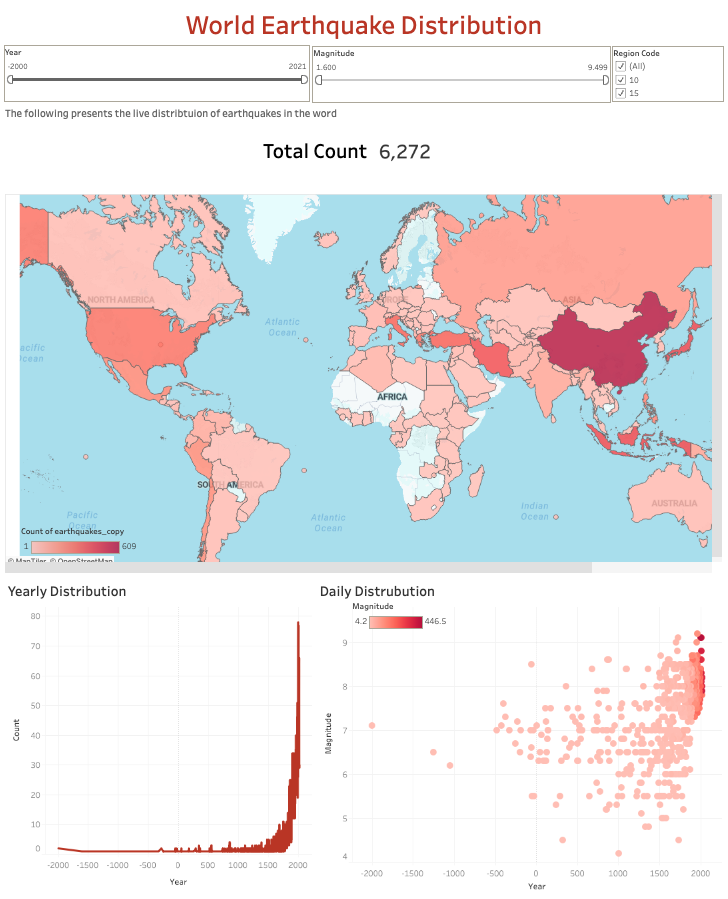

The dashboard page shown, as its layout file describes it:
{"tool":"tableau","page":{"name":"Earthquake Distribution Board","canvas":[1100,2600],"ordinal":0},"visuals":[{"type":"text","box":[8,8,1084,59]},{"type":"text","box":[8,67,1084,206]},{"type":"filter","title":"Year Distribution","param":"[federated.0c6wrz51qgix4k1acehe3132cxyj].[none:year:qk]","box":[10,69,459,86]},{"type":"filter","title":"Daily Distrubution","param":"[federated.0c6wrz51qgix4k1acehe3132cxyj].[none:eq_primary:qk]","box":[473,70,448,86]},{"type":"filter","title":"Regions","param":"[federated.0c6wrz51qgix4k1acehe3132cxyj].[none:region_code:ok]","box":[923,70,168,85]},{"type":"worksheet","title":"Count","mark":"Automatic","box":[555,187,366,76]},{"type":"text","box":[399,207,164,40]},{"type":"worksheet","title":"County Polygon","mark":"Multipolygon","box":[8,273,1084,591]},{"type":"legend","title":"County Polygon","param":"[federated.0c6wrz51qgix4k1acehe3132cxyj].[__tableau_internal_object_id__].[cnt:e","box":[19.6,741,178.4,44]},{"type":"worksheet","title":"Year Distribution","mark":"Automatic","rows":["earthquakes_copy_B94B2CE4F14A46B1A65C4960332EB406"],"cols":["year"],"box":[8,864,468,476]},{"type":"worksheet","title":"Daily Distrubution","mark":"Circle","rows":["eq_primary"],"cols":["year"],"box":[476,864,616,476]},{"type":"legend","title":"Daily Distrubution","param":"[federated.0c6wrz51qgix4k1acehe3132cxyj].[sum:eq_primary:qk]","box":[521.7,1196,146.1,58]},{"type":"currpage","title":"Countries","box":[946,1300,118,97]},{"type":"worksheet","title":"Regions","mark":"Automatic","rows":["region_code"],"cols":["earthquakes_copy_B94B2CE4F14A46B1A65C4960332EB406"],"box":[8,1340,507,530]},{"type":"worksheet","title":"Countries","mark":"Pie","box":[515,1340,577,530]},{"type":"worksheet","title":"Magnitude - Focal Depth","mark":"Automatic","rows":["focal_depth"],"cols":["eq_primary"],"box":[8,1870,1084,344]},{"type":"legend","title":"Magnitude - Focal Depth","param":"[federated.0c6wrz51qgix4k1acehe3132cxyj].[none:flag_tsunami:nk]","box":[74,1872,140,58]},{"type":"worksheet","title":"Location Map","mark":"Automatic","rows":["latitude"],"cols":["longitude"],"box":[8,2214.1,1084,377.9]}]}

Visuals, with their boxes on the page's 1100x2600 design canvas (x1, y1, x2, y2). These are canvas units, not pixel positions in the 728x899 screenshot, which may show the page scaled, cropped or inside an application window:
text: [8,8,1092,67]
text: [8,67,1092,273]
"Year Distribution" filter: [10,69,469,155]
"Daily Distrubution" filter: [473,70,921,156]
"Regions" filter: [923,70,1091,155]
"Count" worksheet: [555,187,921,263]
text: [399,207,563,247]
"County Polygon" worksheet (Multipolygon marks): [8,273,1092,864]
"County Polygon" legend: [20,741,198,785]
"Year Distribution" worksheet: [8,864,476,1340]
"Daily Distrubution" worksheet (Circle marks): [476,864,1092,1340]
"Daily Distrubution" legend: [522,1196,668,1254]
"Countries" currpage: [946,1300,1064,1397]
"Regions" worksheet: [8,1340,515,1870]
"Countries" worksheet (Pie marks): [515,1340,1092,1870]
"Magnitude - Focal Depth" worksheet: [8,1870,1092,2214]
"Magnitude - Focal Depth" legend: [74,1872,214,1930]
"Location Map" worksheet: [8,2214,1092,2592]
